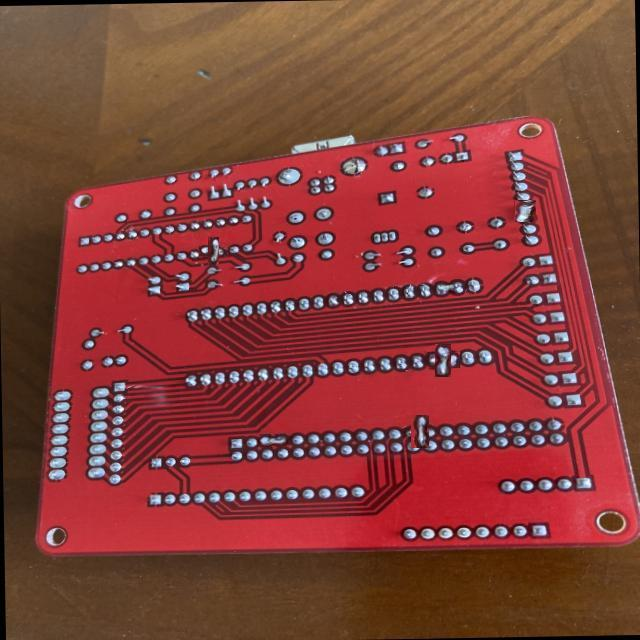damged: (407, 418, 433, 444), (431, 347, 455, 373), (432, 280, 466, 296), (514, 200, 536, 222), (258, 433, 289, 448), (203, 241, 224, 262)
